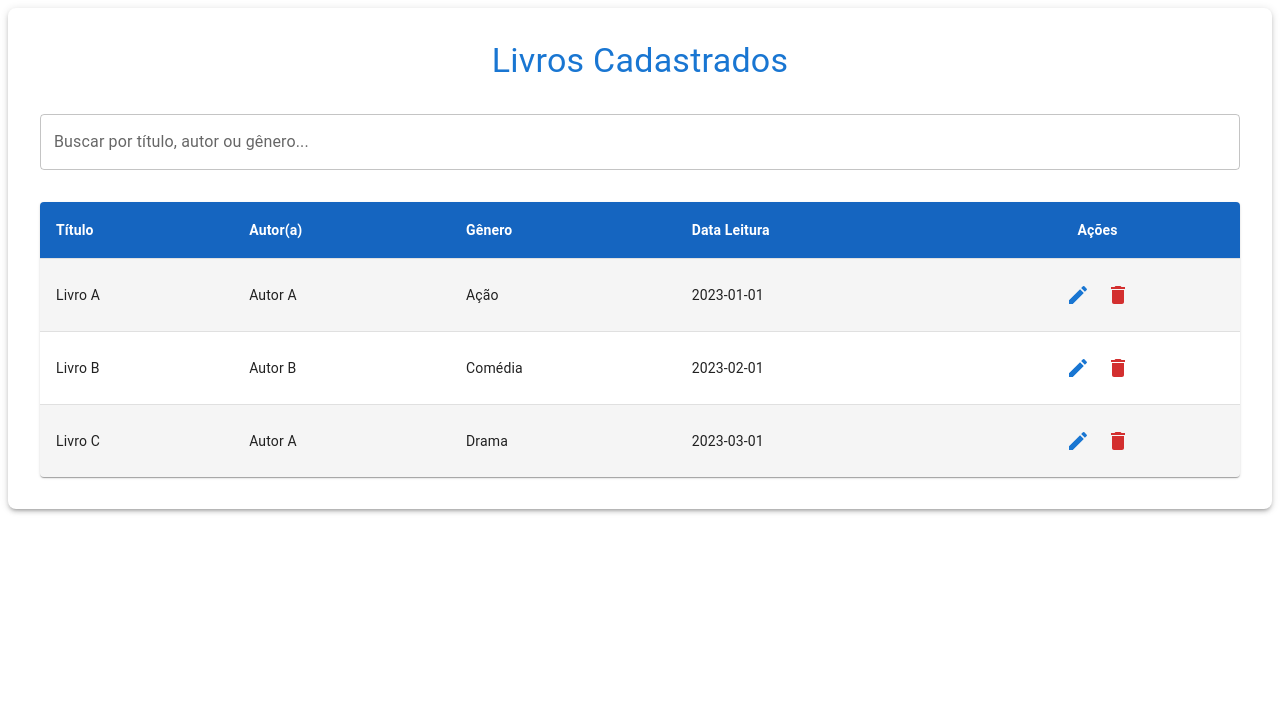
Test: BookList › filters books by search term
The width and height of the screenshot is (1280, 720).
Type "Autor A" into the field labelled "Buscar por título, autor ou gênero...".
click(640, 142); type("Autor A")  # box [40, 114, 1240, 170]
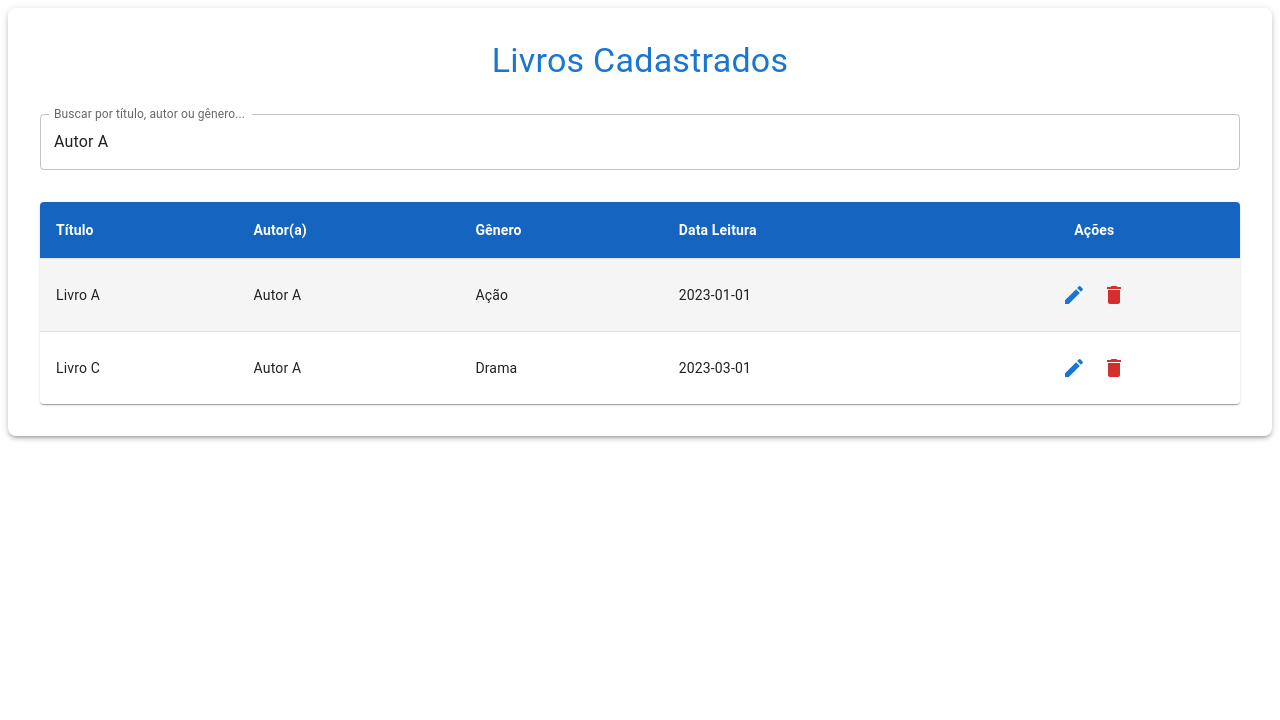
Expected: the column heading "Livro A" is shown, [40, 258, 238, 332]
Now the column heading "Livro B" is gone
